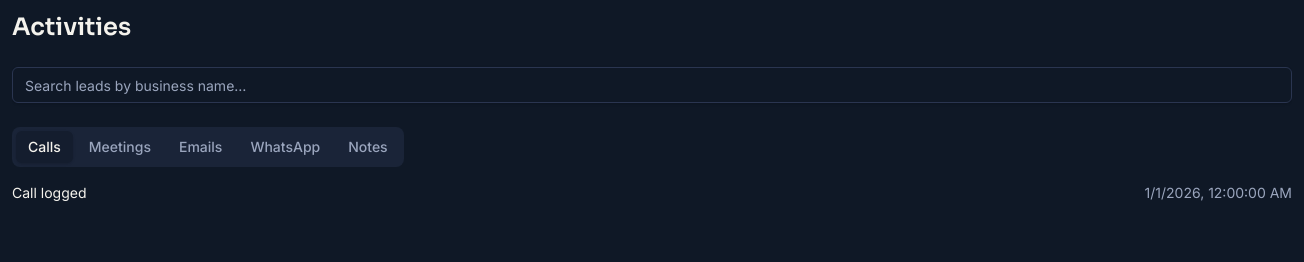
Test case: ActivitiesPage › switches to the Notes tab and shows only real LeadNote entries, never merged with activities
expect the text "Call logged" is shown: met, box x1=12 y1=183 x2=86 y2=203
Step 1. Click the tab "Notes" → [368, 147], box x1=336 y1=131 x2=400 y2=163
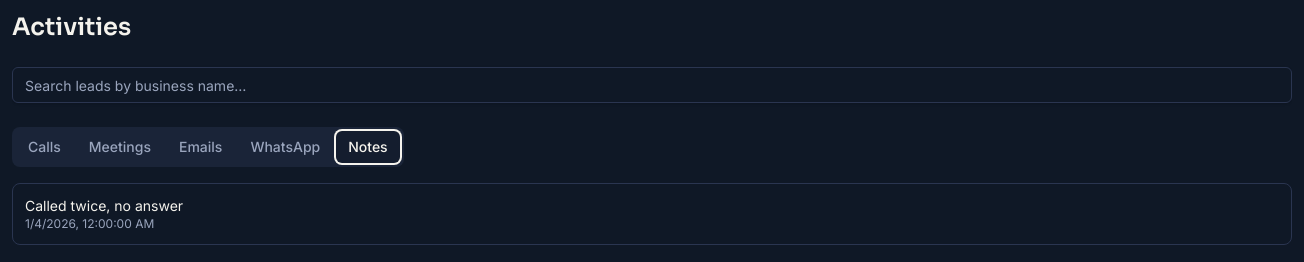
expect the text "Called twice, no answer" is shown: met, box x1=25 y1=197 x2=183 y2=214
expect the text "Call logged" is gone: met
